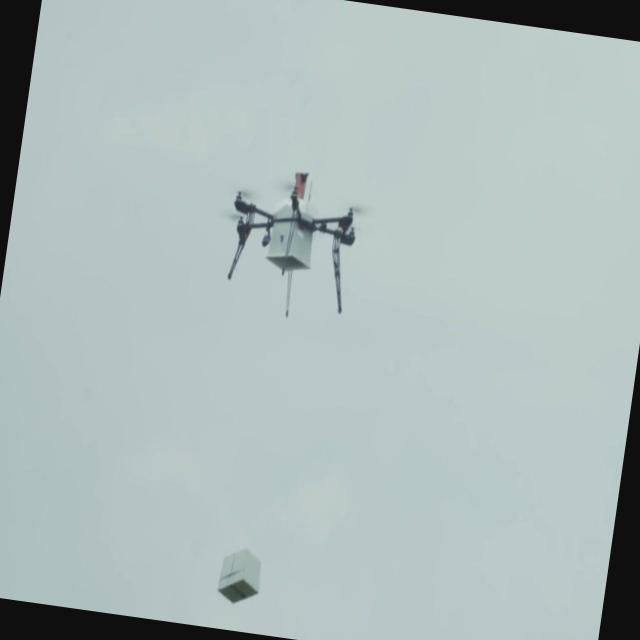drone: (219, 160, 366, 330)
